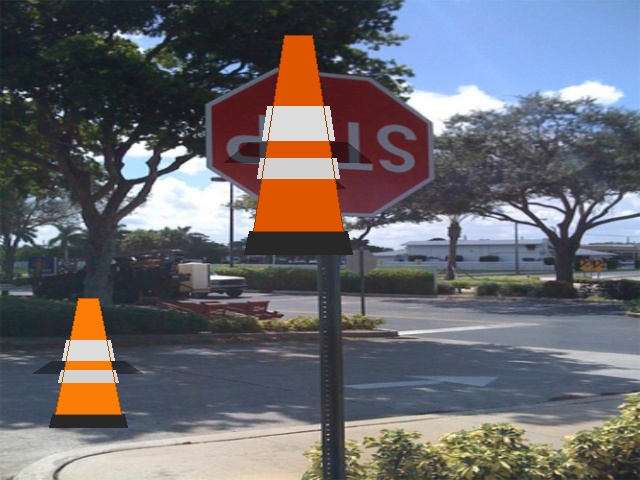traffic-cone: (244, 35, 352, 254), (49, 298, 127, 427), (294, 133, 336, 228)
